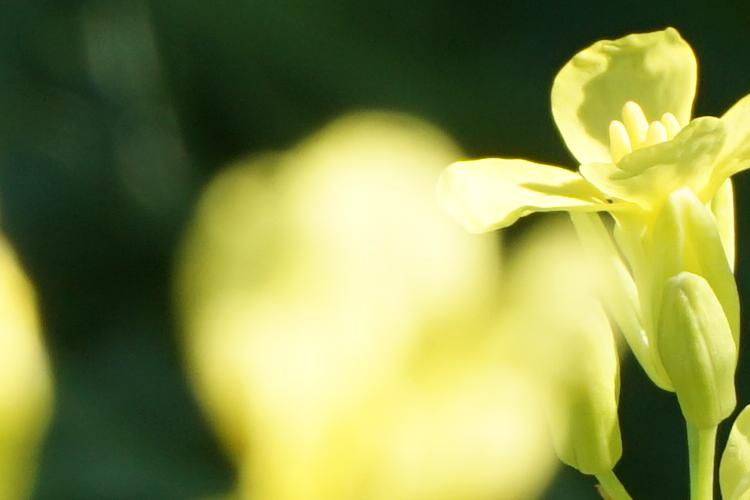bud: (655, 276, 741, 432)
yellow: (449, 31, 749, 302)
